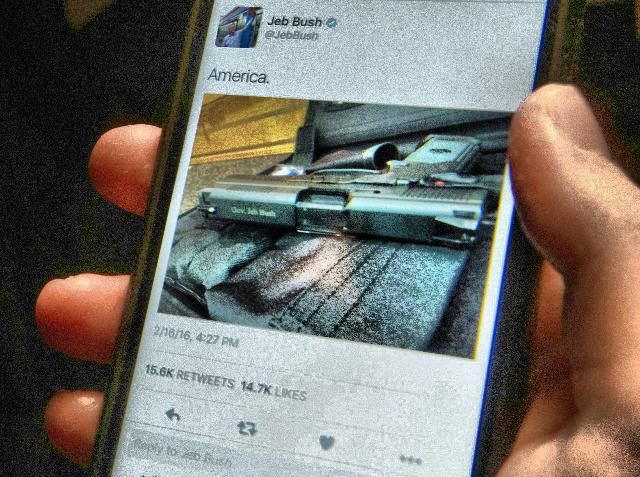pistol: (213, 132, 487, 260)
